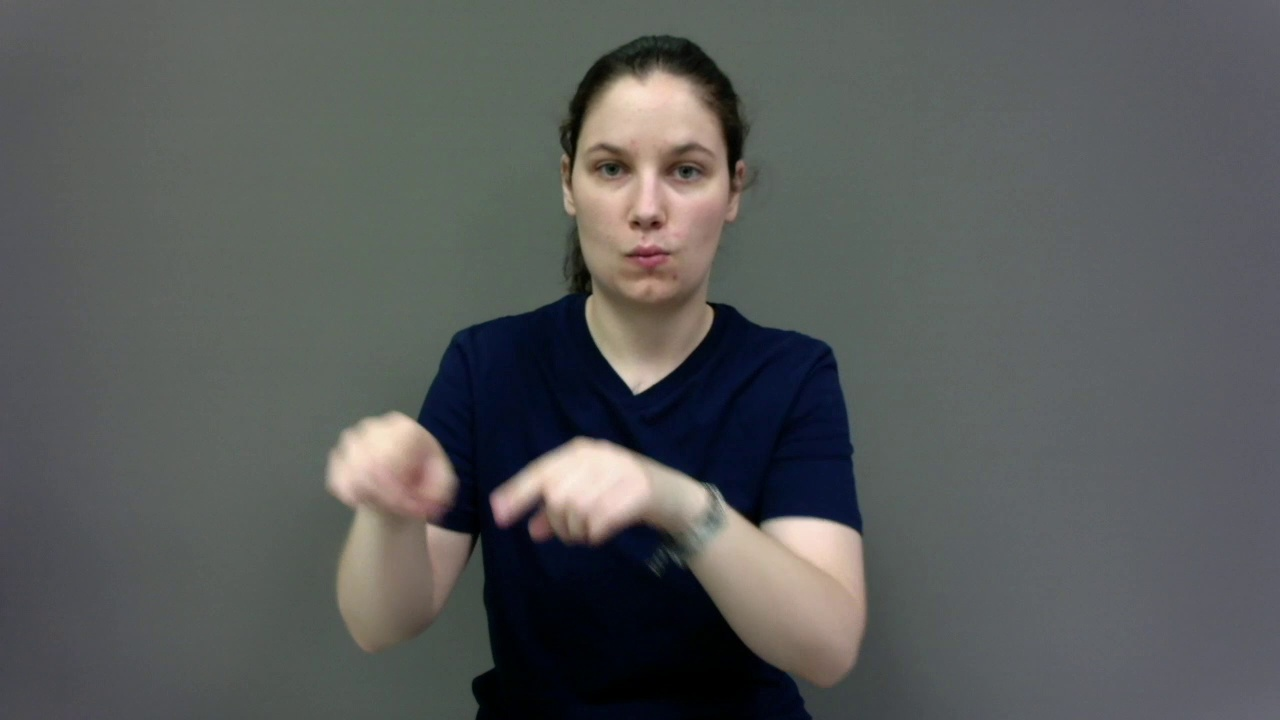go: (313, 388, 722, 553)
